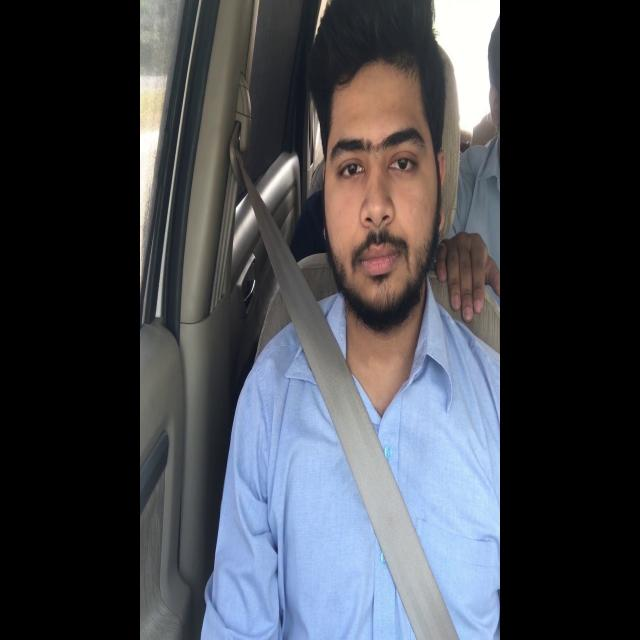awake: (335, 101, 421, 286)
